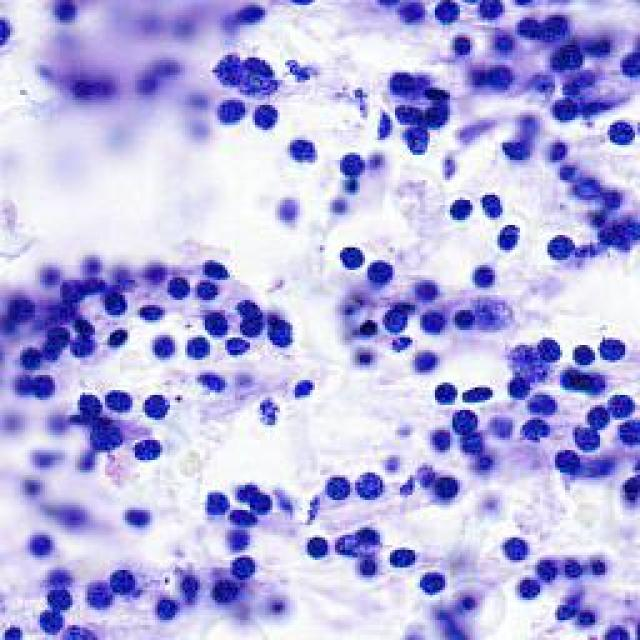cell: (326, 233, 369, 270), (458, 255, 505, 288), (363, 256, 399, 291), (270, 306, 294, 353), (556, 544, 585, 581), (283, 375, 326, 399), (128, 435, 168, 460), (270, 196, 305, 223), (109, 562, 140, 592), (497, 220, 525, 252), (38, 588, 82, 608), (193, 371, 225, 398), (199, 257, 235, 281), (255, 396, 288, 422), (324, 474, 352, 504), (388, 544, 421, 568), (403, 352, 449, 369), (498, 536, 530, 560), (445, 199, 472, 226), (87, 578, 115, 604), (435, 469, 457, 501), (514, 577, 543, 601), (590, 550, 614, 579), (358, 472, 382, 499), (28, 530, 52, 556), (46, 568, 73, 588), (538, 552, 558, 578), (123, 506, 153, 523), (154, 336, 174, 358), (166, 278, 188, 297), (7, 623, 30, 640), (554, 602, 575, 620), (588, 606, 598, 627)
